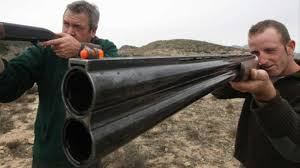weapon: (59, 56, 259, 168)
